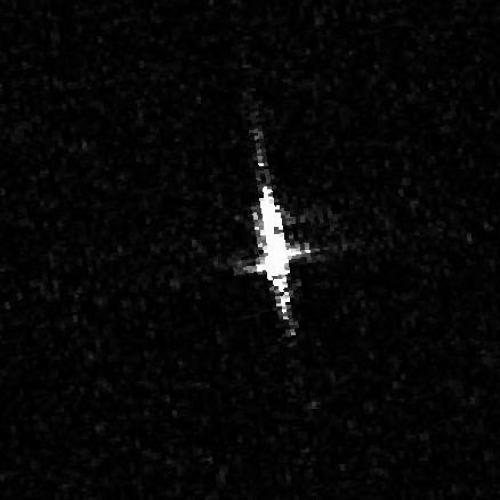ship: (257, 182, 291, 322)
